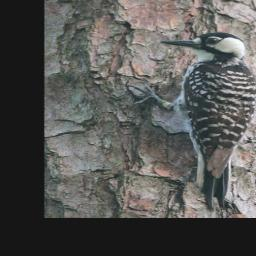Woodpecker: (120, 31, 256, 211)
